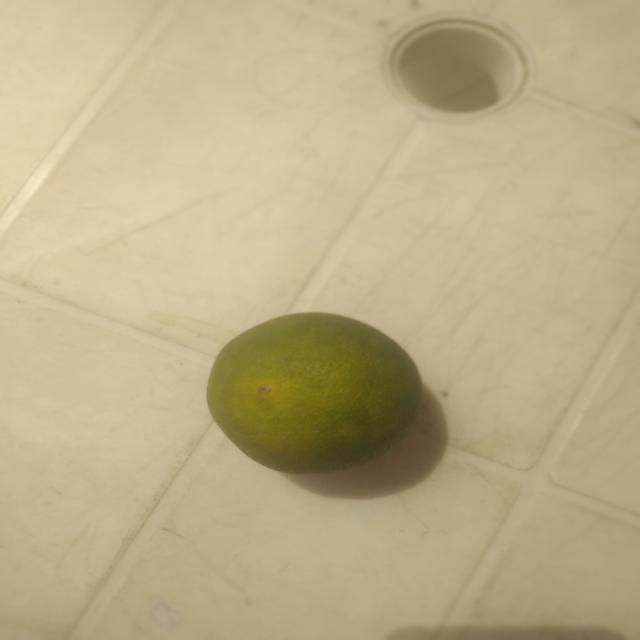Unripe: (199, 306, 426, 476)
